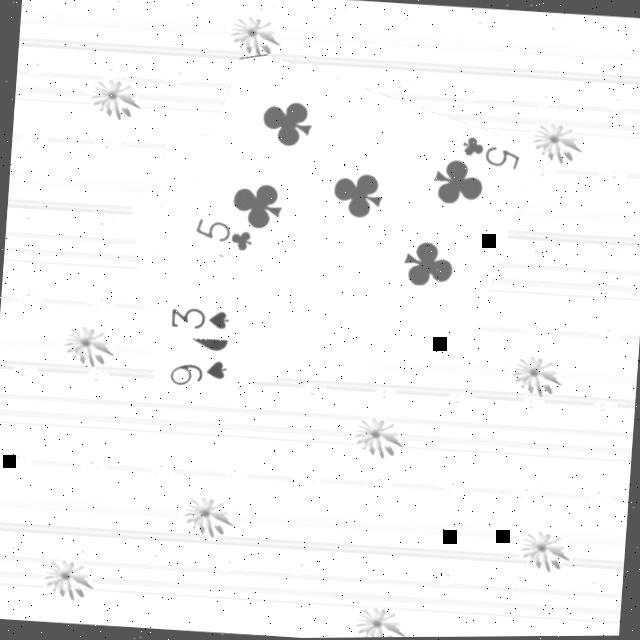3S: (164, 305, 230, 336)
5C: (188, 215, 254, 256), (456, 133, 522, 174)
9S: (164, 355, 229, 393)
